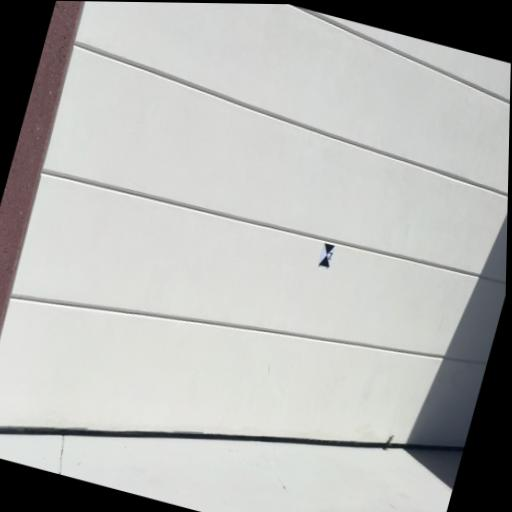target7: (318, 242, 336, 268)
